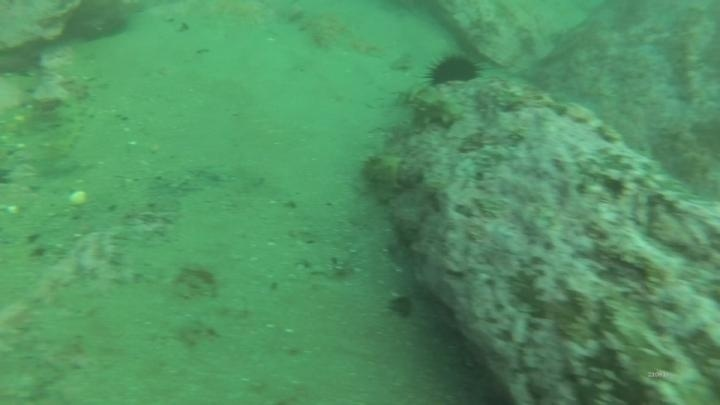echinus: (423, 51, 482, 89)
holothurian: (404, 82, 469, 131), (357, 148, 408, 207)
